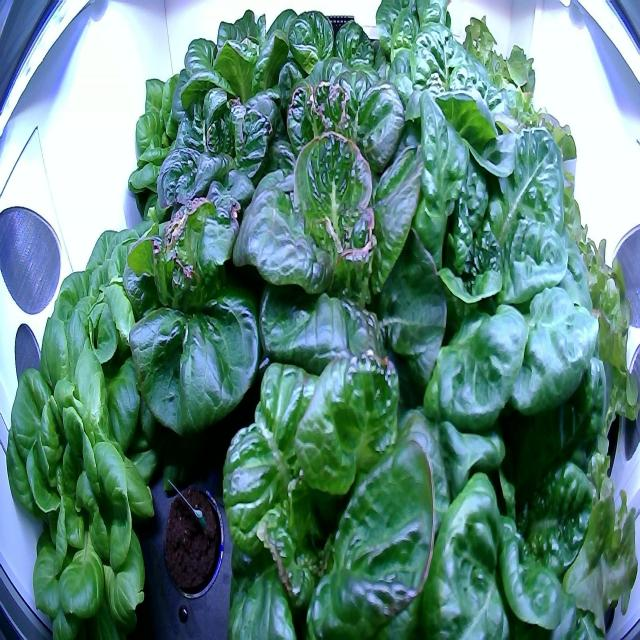Ready: (213, 304, 466, 640), (229, 57, 461, 410), (393, 81, 612, 435), (424, 309, 613, 639), (2, 307, 166, 640), (121, 177, 267, 466), (397, 25, 528, 238), (149, 84, 284, 273), (39, 218, 181, 378), (274, 48, 410, 194), (179, 0, 312, 140), (118, 55, 231, 216), (275, 0, 391, 137), (369, 0, 484, 132)
pod: (159, 480, 226, 602)
